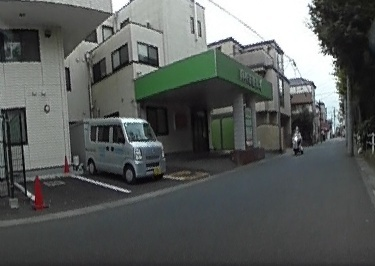person: (291, 123, 301, 150)
